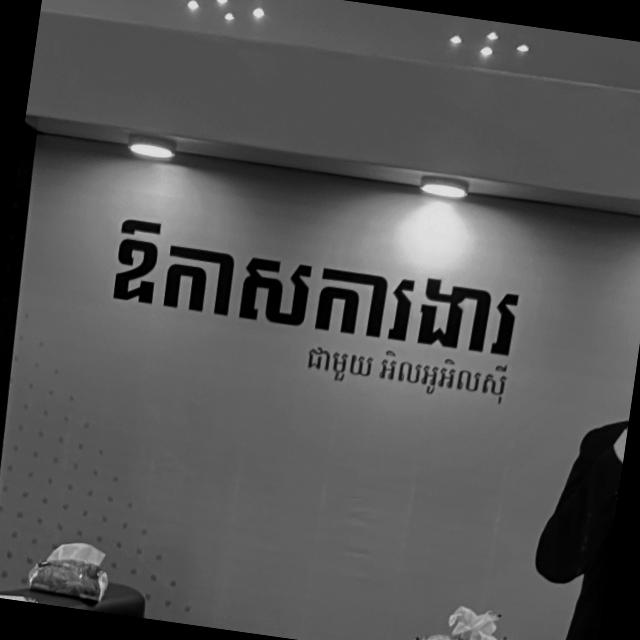1: (301, 334, 514, 412)
Yolov11_80vkh: (105, 204, 542, 372)
